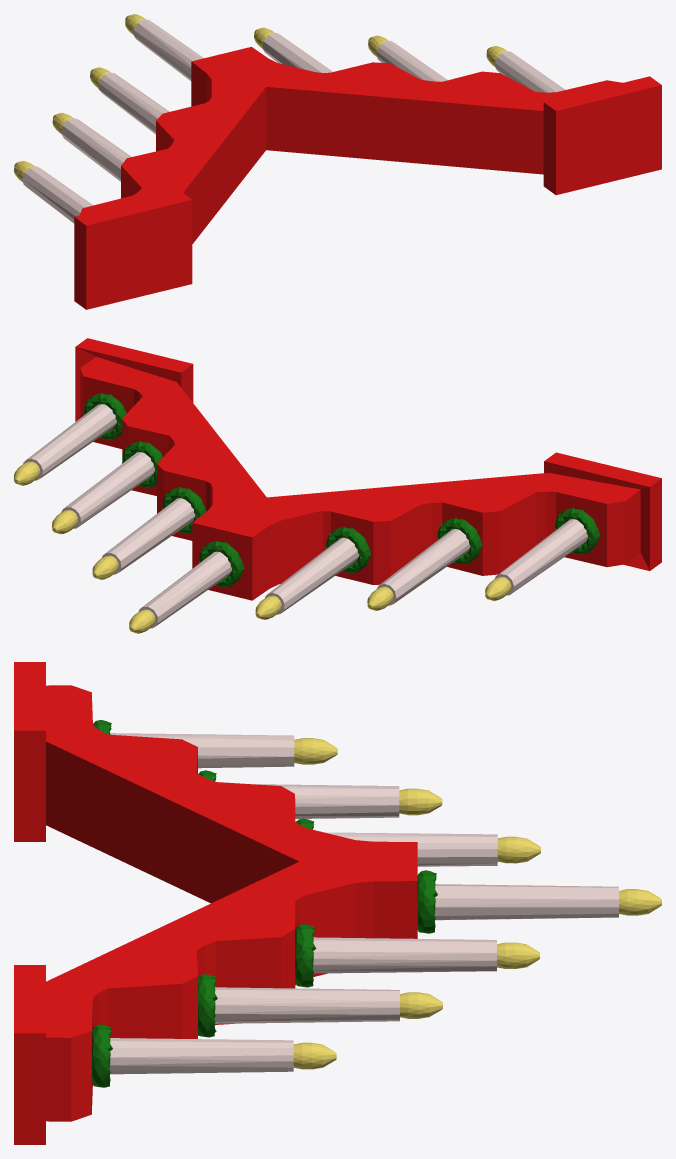
Rendered from ljusstakeMLjus.fbx.
The picture shows the model from 3 angles, top to bottom: view 1: azimuth 30°, elevation 25°; view 2: azimuth 150°, elevation 25°; view 3: azimuth 270°, elevation 25°; orthographic projection. The views are drawn at different scales.
Visible parts, largest first — view 1: Cube, Cylinder.003, Cylinder.004, Cylinder.007, Cylinder, Cylinder.012, Cylinder.008, Cylinder.011; view 2: Cube, Cylinder.004, Cylinder.011, Cylinder.003, Cylinder, Cylinder.008, Cylinder.007, Cylinder.012, Torus.003, Torus.010, Torus.001, Torus.002 (+10 smaller); view 3: Cube, Cylinder.011, Cylinder.012, Cylinder.008, Cylinder.007, Cylinder, Cylinder.003, Cylinder.004, Torus.004, Torus.010, Torus.006, Torus.005 (+7 smaller).
Boxes of the visible parts, left/top/right/bottom form: Cube: left=74, top=47, right=661, bottom=309; Cylinder.003: left=61, top=118, right=131, bottom=181; Cylinder.004: left=98, top=72, right=169, bottom=134; Cylinder.007: left=133, top=19, right=203, bottom=80; Cylinder: left=22, top=166, right=92, bottom=223; Cylinder.012: left=495, top=51, right=565, bottom=92; Cylinder.008: left=262, top=33, right=332, bottom=72; Cylinder.011: left=376, top=41, right=447, bottom=81; Cube: left=75, top=338, right=661, bottom=600; Cylinder.004: left=265, top=537, right=359, bottom=614; Cylinder.011: left=61, top=452, right=154, bottom=528; Cylinder.003: left=377, top=529, right=470, bottom=605; Cylinder: left=494, top=519, right=587, bottom=595; Cylinder.008: left=102, top=498, right=195, bottom=574; Cylinder.007: left=138, top=551, right=231, bottom=628; Cylinder.012: left=23, top=404, right=116, bottom=480; Torus.003: left=555, top=507, right=599, bottom=554; Torus.010: left=199, top=540, right=244, bottom=586; Torus.001: left=326, top=526, right=371, bottom=572; Torus.002: left=437, top=518, right=482, bottom=563; Cube: left=14, top=662, right=417, bottom=1144; Cylinder.011: left=214, top=987, right=399, bottom=1023; Cylinder.012: left=109, top=1038, right=293, bottom=1074; Cylinder.008: left=313, top=937, right=496, bottom=973; Cylinder.007: left=434, top=884, right=618, bottom=920; Cylinder: left=110, top=733, right=294, bottom=768; Cylinder.003: left=256, top=784, right=399, bottom=818; Cylinder.004: left=326, top=832, right=497, bottom=866; Torus.004: left=295, top=924, right=316, bottom=987; Torus.010: left=417, top=870, right=437, bottom=933; Torus.006: left=92, top=1024, right=112, bottom=1087; Torus.005: left=198, top=974, right=217, bottom=1037.
Size of the model in its own units: 336 by 47.06 by 248.
